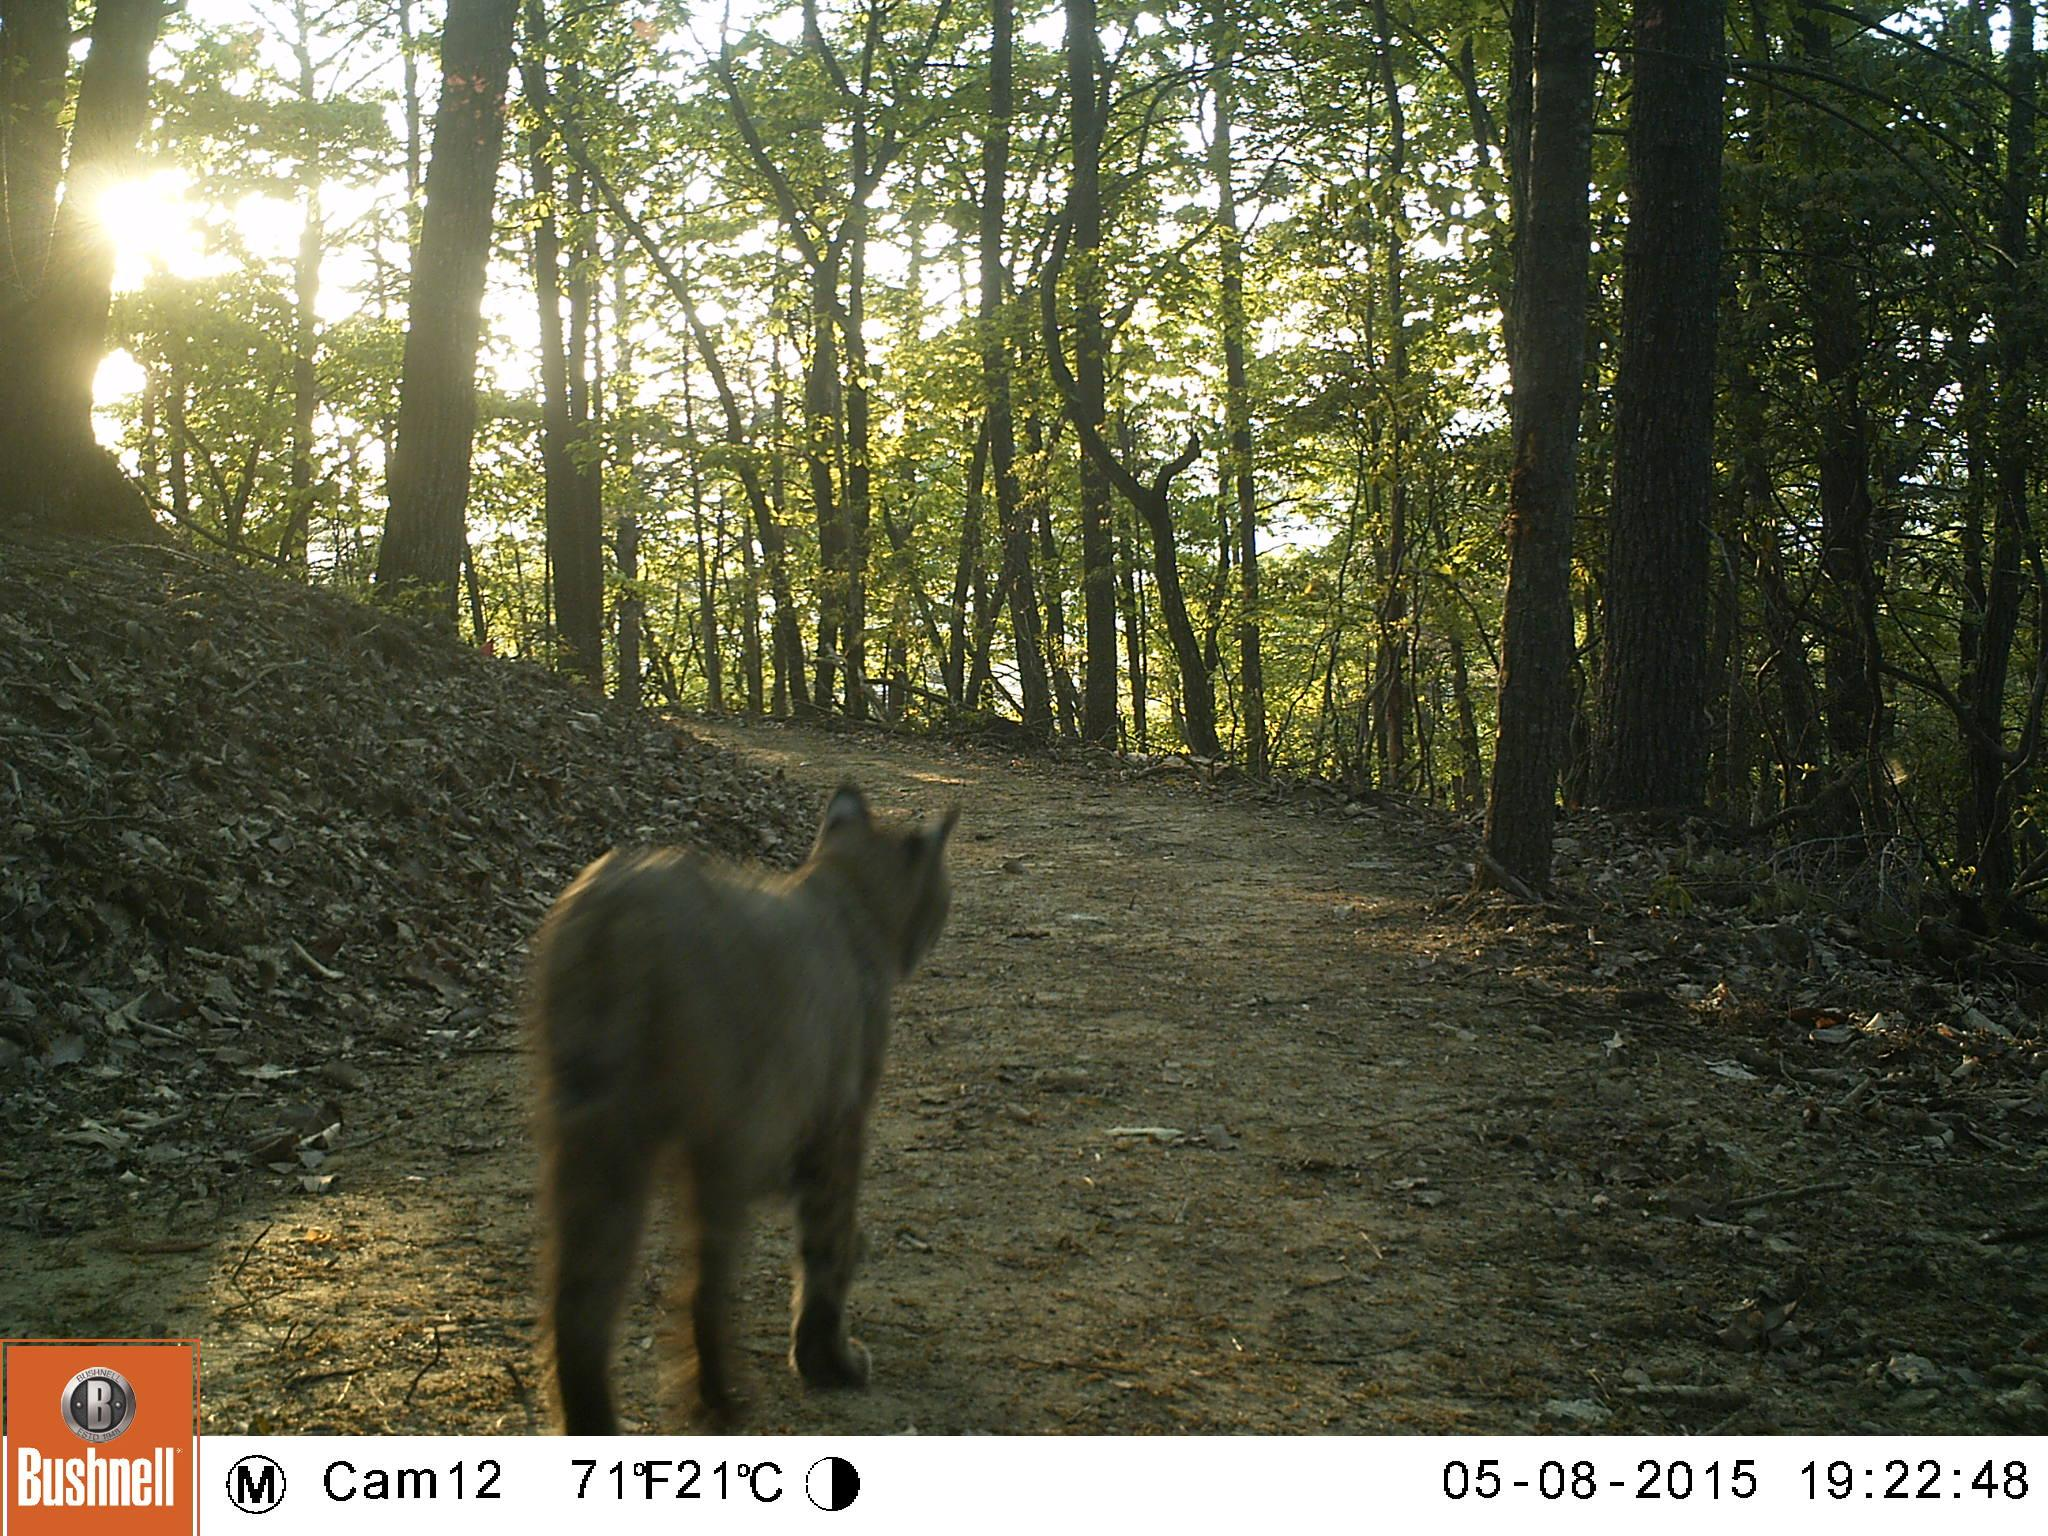Animal: (534, 778, 964, 1426)
